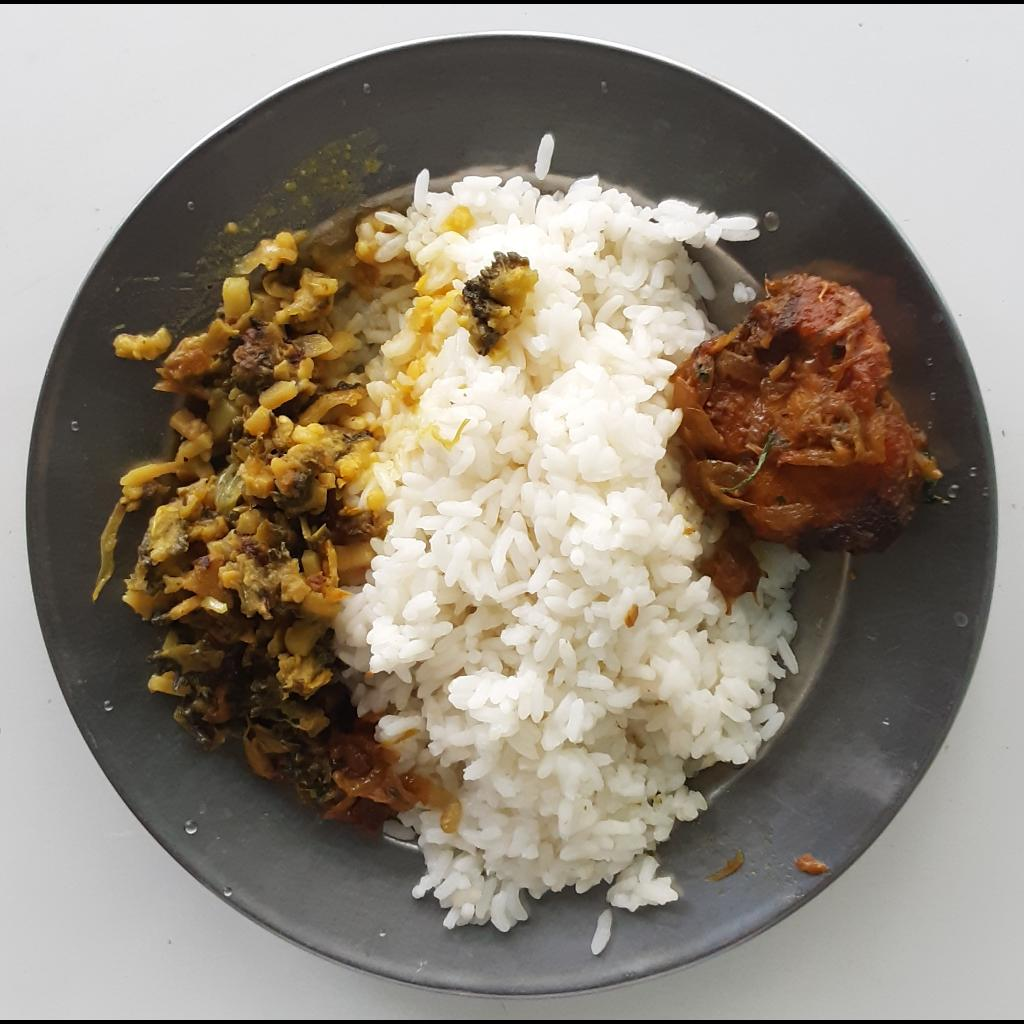fish: (666, 277, 938, 553)
korola-vaji: (91, 266, 393, 825)
rice: (322, 128, 812, 951)
